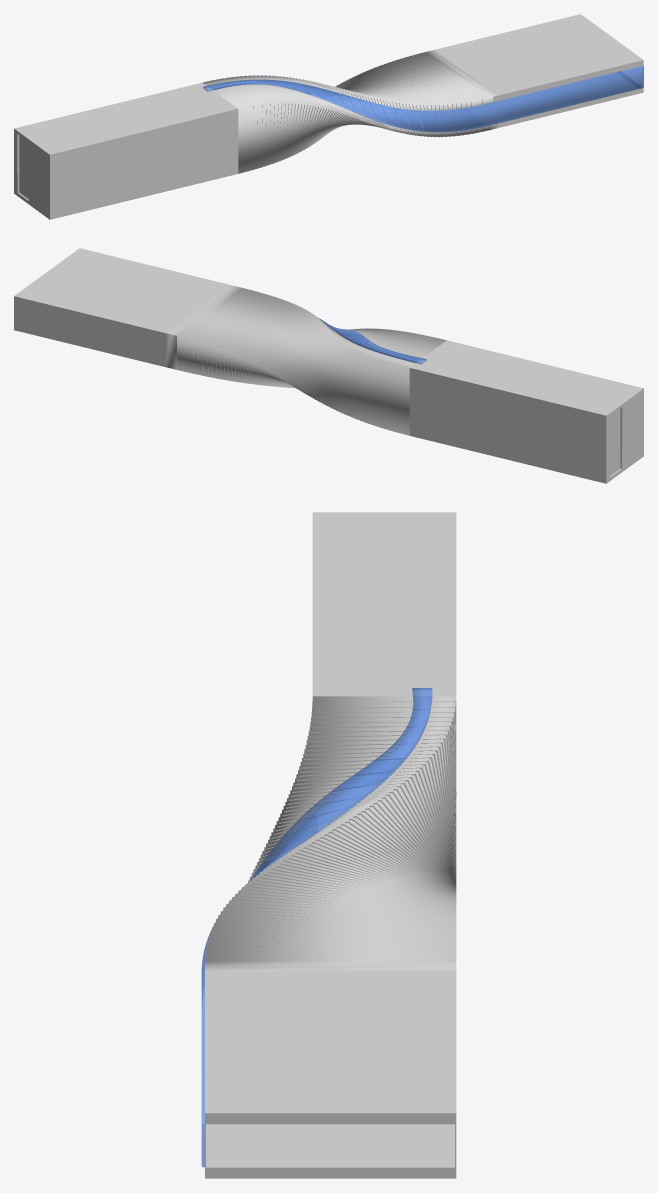
File: TWISTMUSEUM.obj
3 renders of one model, top to bottom at view 1: azimuth 30°, elevation 25°; view 2: azimuth 150°, elevation 25°; view 3: azimuth 270°, elevation 25°, orthographic. The views are drawn at different scales.
Bounding box in the file's own units: 273409 × 30700 × 53200.
